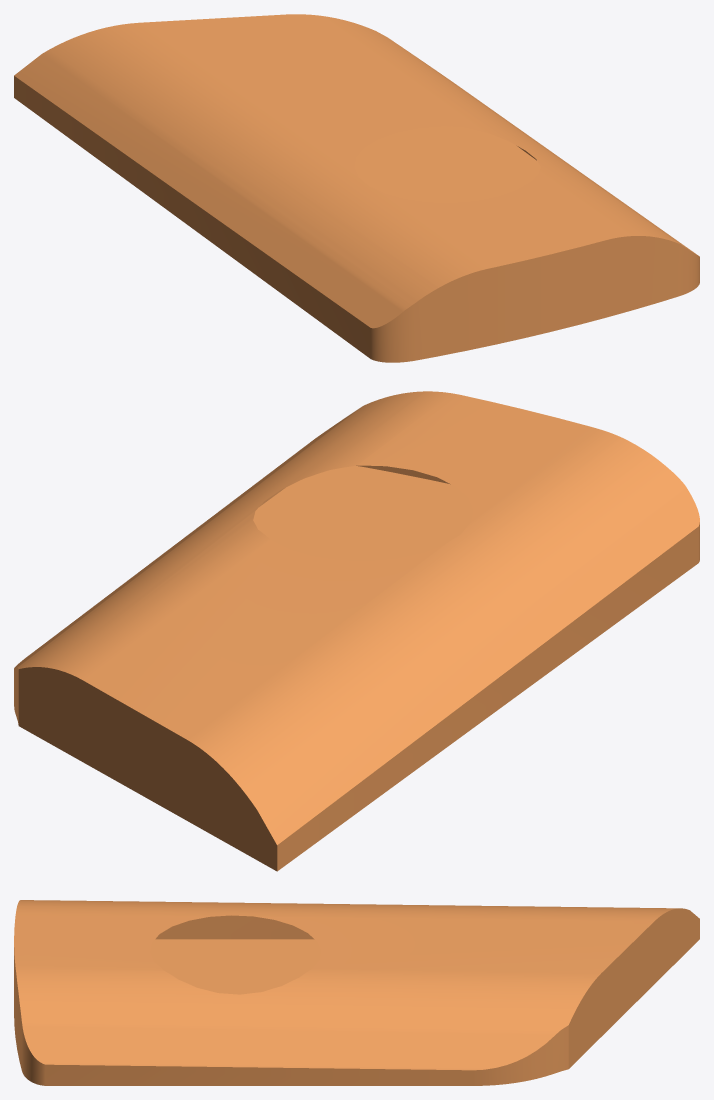
The model's file is original-39.obj.
3 views of the same model, one above another, from view 1: azimuth 30°, elevation 25°; view 2: azimuth 150°, elevation 25°; view 3: azimuth 270°, elevation 25° (orthographic). The views are drawn at different scales.
Parts seen in each view (by area): view 1: #ID201; view 2: #ID201; view 3: #ID201.
Boxes of the visible parts, x1,y1,x2,y2 form: #ID201: (14,14,699,362); #ID201: (14,391,699,871); #ID201: (14,900,699,1085).
Bounding box in the file's own units: 0.185 × 0.0418 × 0.3654.
